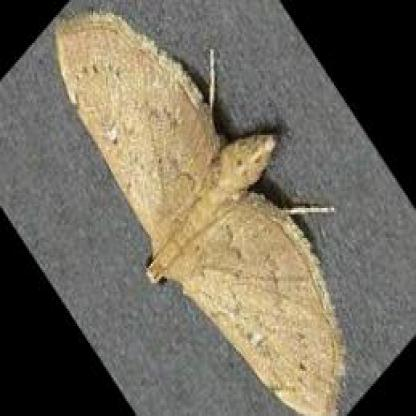Leaf Webber: (55, 11, 349, 414)
